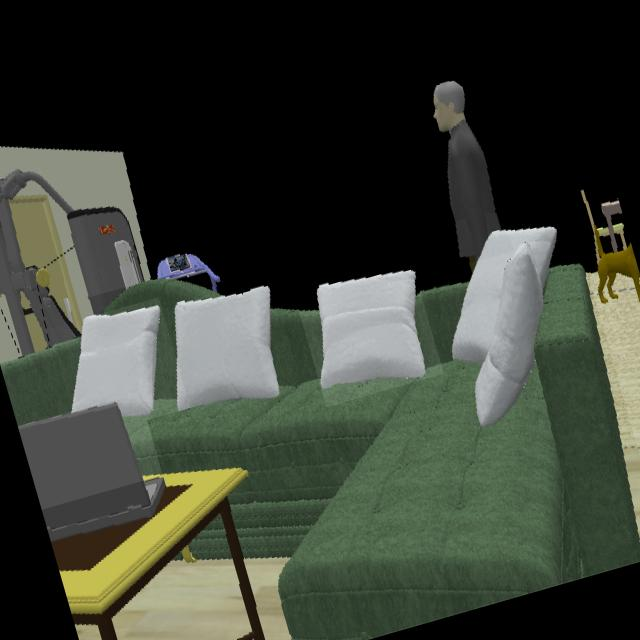laptop: (18, 402, 166, 549)
person: (434, 82, 501, 263)
pillow: (452, 227, 558, 428), (173, 286, 280, 417), (316, 271, 426, 391), (72, 307, 162, 424)
sofa: (101, 265, 640, 640)
table: (52, 470, 263, 640)
